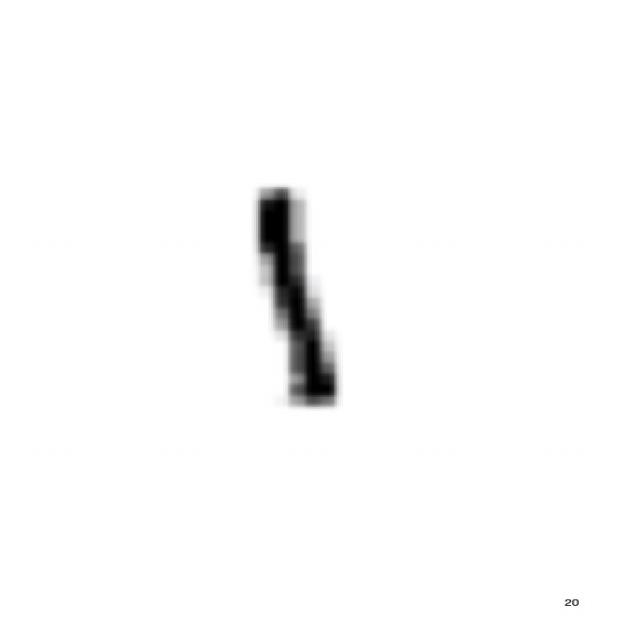1 -one-: (234, 173, 353, 415)
